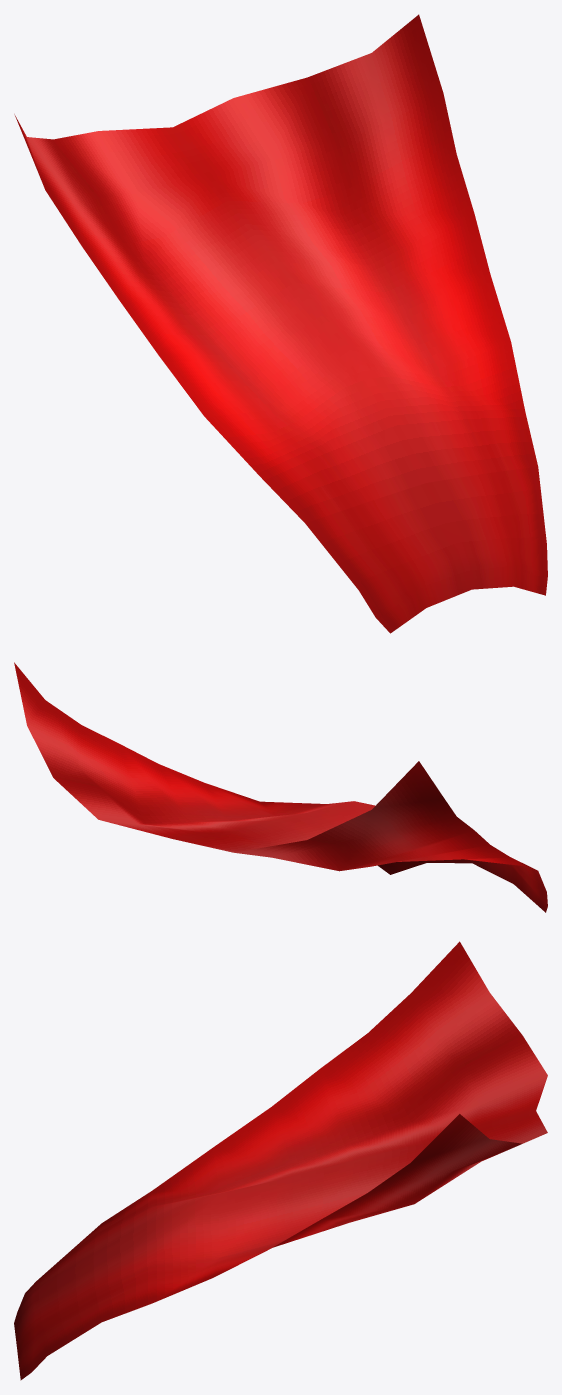
Rendered from tt_m_chr_avt_acc_pac_supertoonCape.glb.
The picture shows the model from 3 angles, top to bottom: view 1: azimuth 30°, elevation 25°; view 2: azimuth 150°, elevation 25°; view 3: azimuth 270°, elevation 25°; orthographic projection. The views are drawn at different scales.
Visible parts, largest first — view 1: supertoonCape; view 2: supertoonCape; view 3: supertoonCape.
Part boxes in pixels (<box>): supertoonCape: <box>14,14,547,633</box>; supertoonCape: <box>14,662,547,912</box>; supertoonCape: <box>14,941,547,1380</box>.
Bounding box in the file's own units: 3.94 × 3.41 × 5.16.
Materials: 1 (1 with a texture image).
